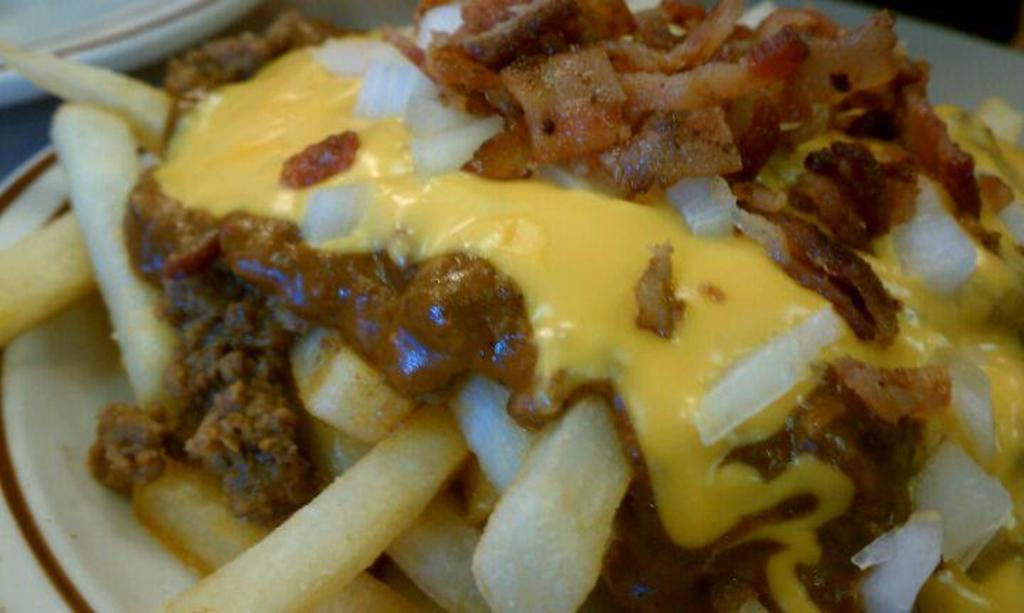French fries: (0, 31, 1022, 612)
